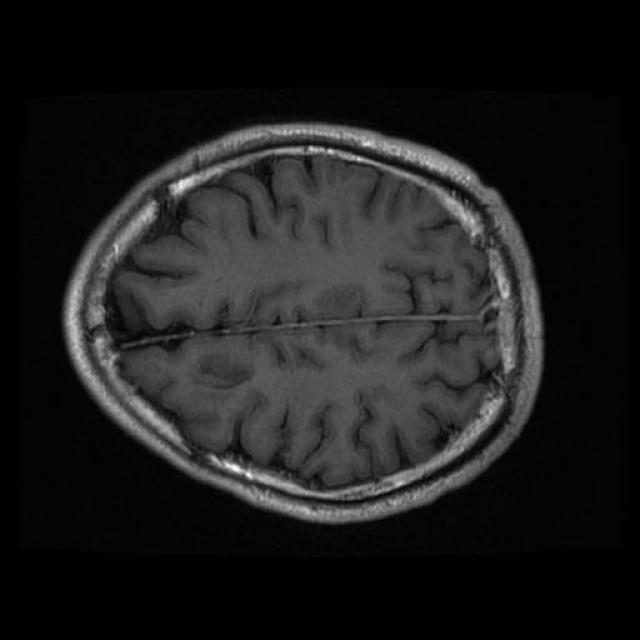Glioma: (196, 354, 254, 388)
